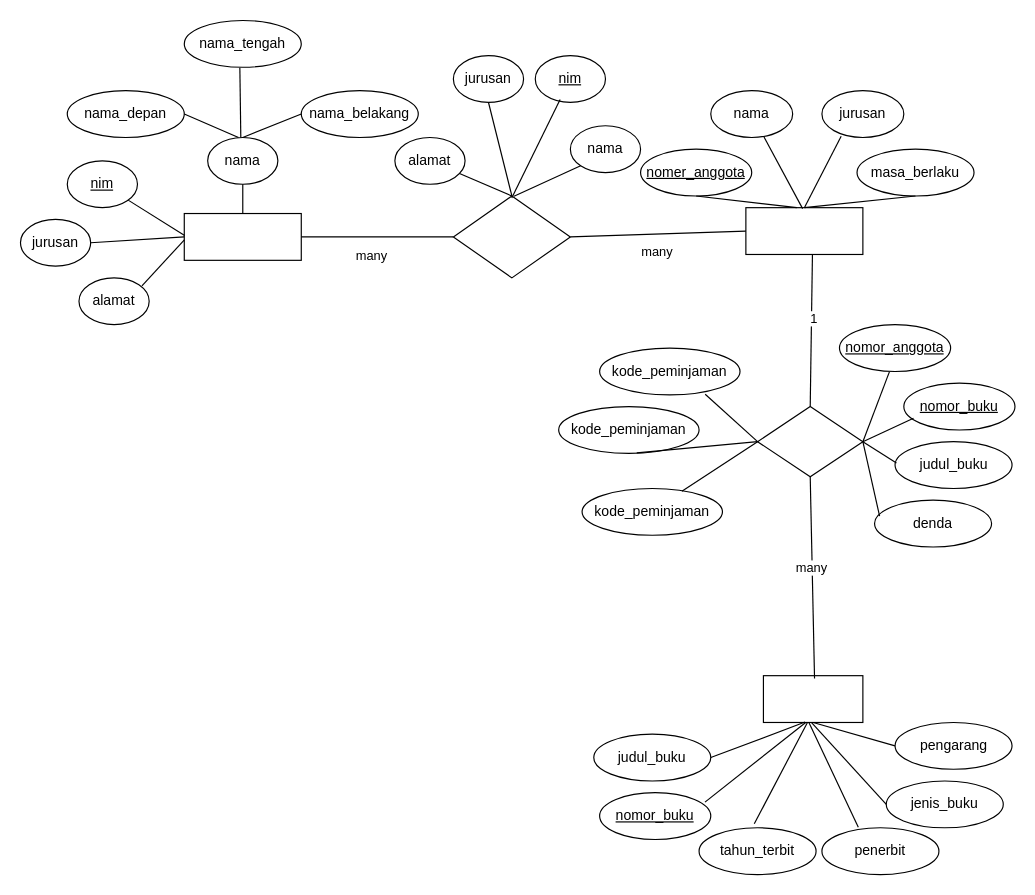
This 1035x895 diagram has some shape labels left out. The box of each missing label's shape, as (x1, y1, x2, y2) in pixels:
anggota perpustakaan: (745, 207, 863, 254)
Buku: (762, 675, 863, 722)
mahasiswa: (183, 212, 301, 260)
meminjam: (756, 405, 863, 477)
mendaftar: (452, 195, 570, 278)
